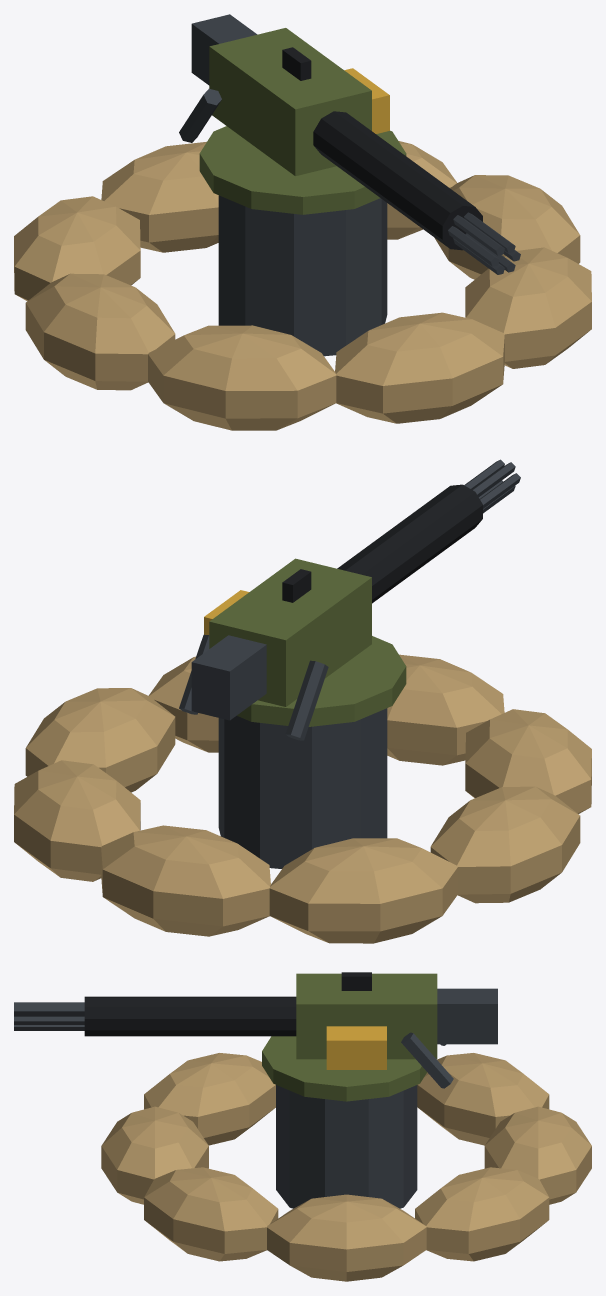
The model's file is machinegun.glb.
3 views of the same model, one above another, from view 1: azimuth 30°, elevation 25°; view 2: azimuth 150°, elevation 25°; view 3: azimuth 270°, elevation 25° (orthographic). The views are drawn at different scales.
Visible parts, largest first — view 1: Base, Gun; view 2: Base, Gun; view 3: Base, Gun.
Part boxes in pixels (x1,y1,x2,y2): Base: (14,126,591,430); Gun: (179,14,520,274); Base: (14,636,591,943); Gun: (179,459,520,740); Base: (101,1036,591,1281); Gun: (14,972,497,1088).
Bounding box in the file's own units: 2.43 × 1.2 × 2.87.
